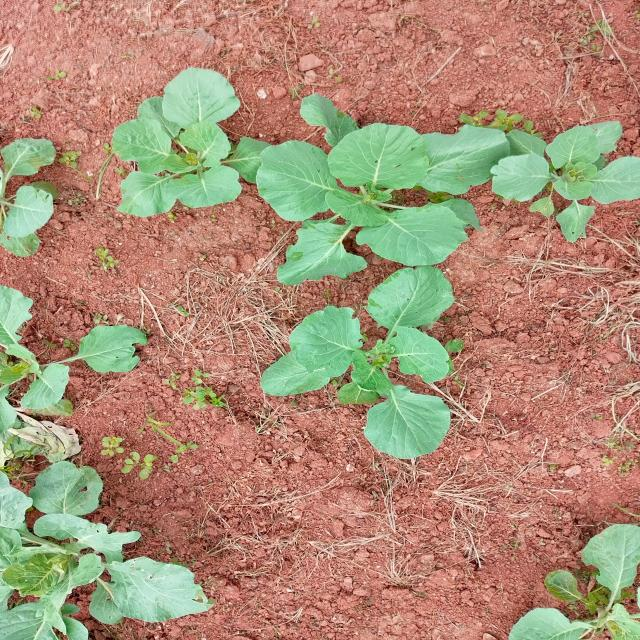Cabbage: (253, 254, 458, 476), (0, 430, 208, 640), (250, 103, 477, 268), (110, 60, 254, 228), (493, 111, 640, 258), (510, 519, 640, 640), (0, 128, 64, 274)
